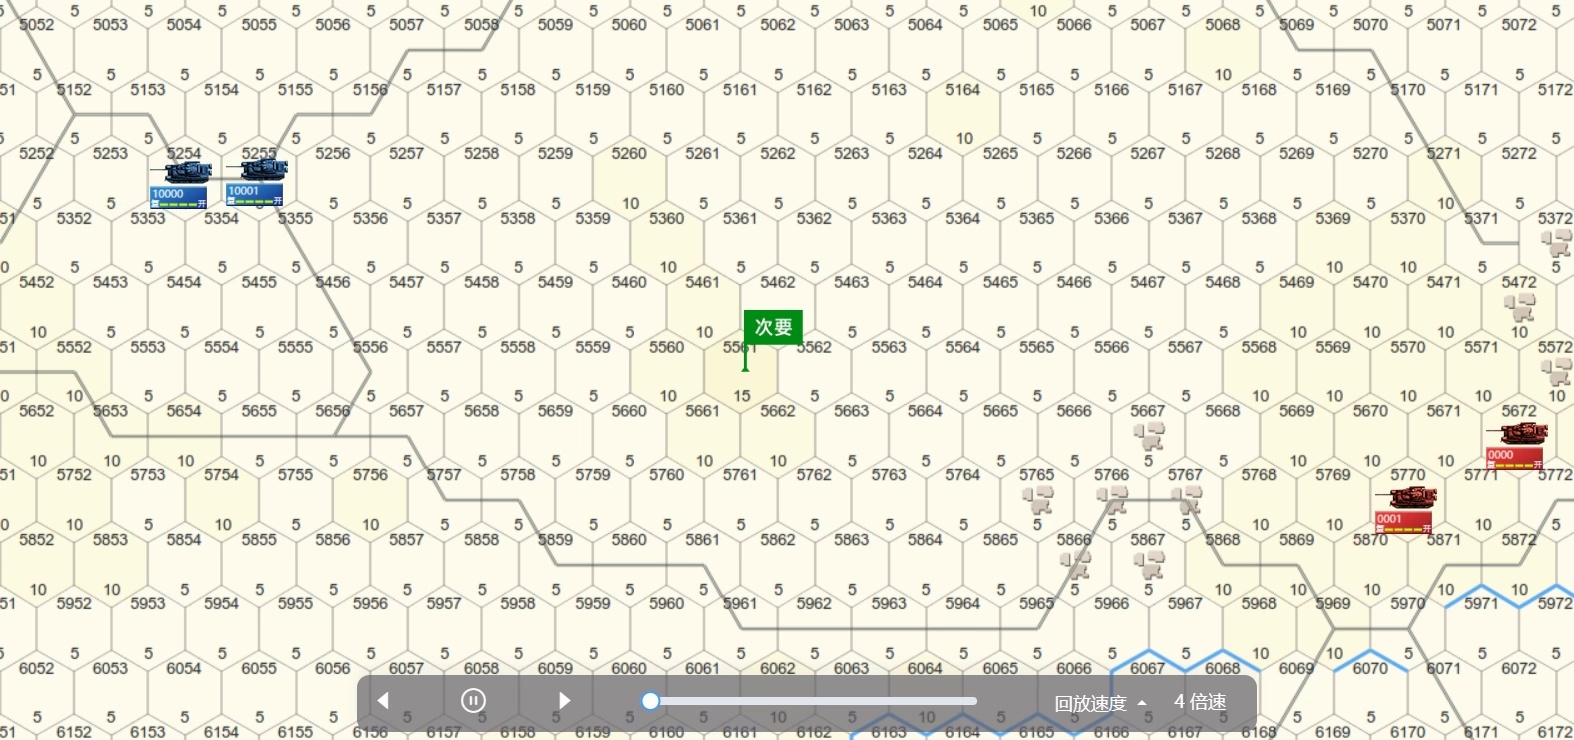blue_tank: (241, 156, 280, 207), (156, 158, 200, 197)
red_tank: (1490, 418, 1560, 459), (1383, 489, 1444, 534)
